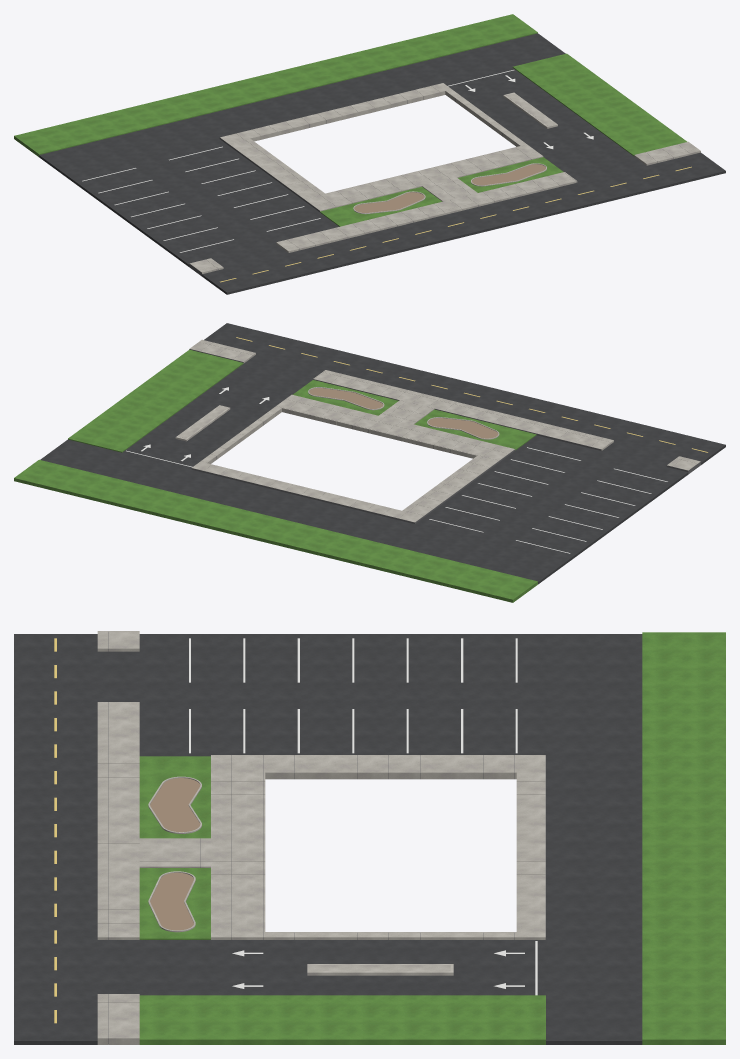
Rendered from site.glb.
3 views of the same model, one above another, from view 1: azimuth 30°, elevation 25°; view 2: azimuth 150°, elevation 25°; view 3: azimuth 270°, elevation 25° (orthographic). The views are drawn at different scales.
Parts seen in each view (by area): view 1: site_asphalt, site_grass, site_concrete, site_mulch, site_paint_w, site_curb; view 2: site_asphalt, site_grass, site_concrete, site_mulch, site_dark, site_paint_w, site_curb; view 3: site_asphalt, site_grass, site_concrete, site_mulch, site_paint_w, site_curb, site_dark.
Part boxes in pixels (<box>): site_asphalt: <box>39,33,725,294</box>; site_grass: <box>14,14,687,226</box>; site_concrete: <box>189,83,700,273</box>; site_mulch: <box>354,164,545,212</box>; site_paint_w: <box>82,70,593,252</box>; site_curb: <box>353,92,557,214</box>; site_asphalt: <box>40,323,725,584</box>; site_grass: <box>14,349,537,602</box>; site_concrete: <box>178,339,700,522</box>; site_mulch: <box>309,388,498,438</box>; site_dark: <box>189,349,700,523</box>; site_paint_w: <box>126,387,667,553</box>; site_curb: <box>175,387,499,441</box>; site_asphalt: <box>14,634,642,1044</box>; site_grass: <box>139,632,725,1044</box>; site_concrete: <box>97,631,545,1044</box>; site_mulch: <box>150,778,200,930</box>; site_paint_w: <box>189,638,537,995</box>; site_curb: <box>148,776,453,975</box>; site_dark: <box>108,631,545,1044</box>.
Bounding box in the file's own units: 46 × 0.354 × 34.
8 materials, 4 textured.
